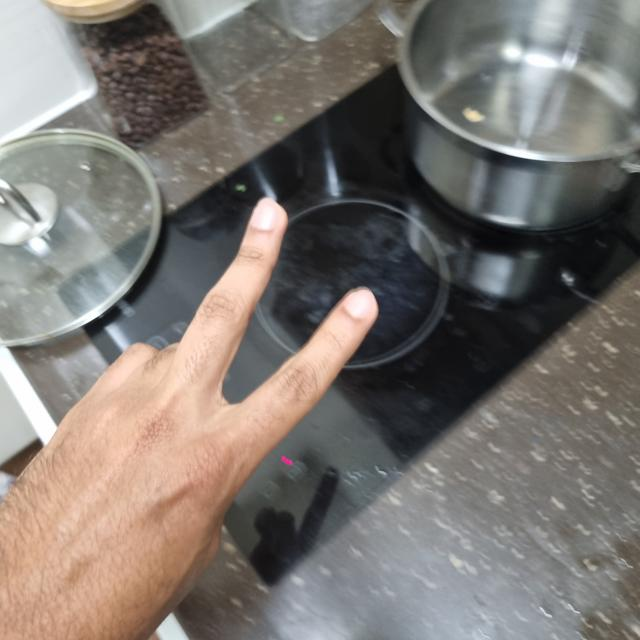Scissors: (1, 203, 376, 636)
